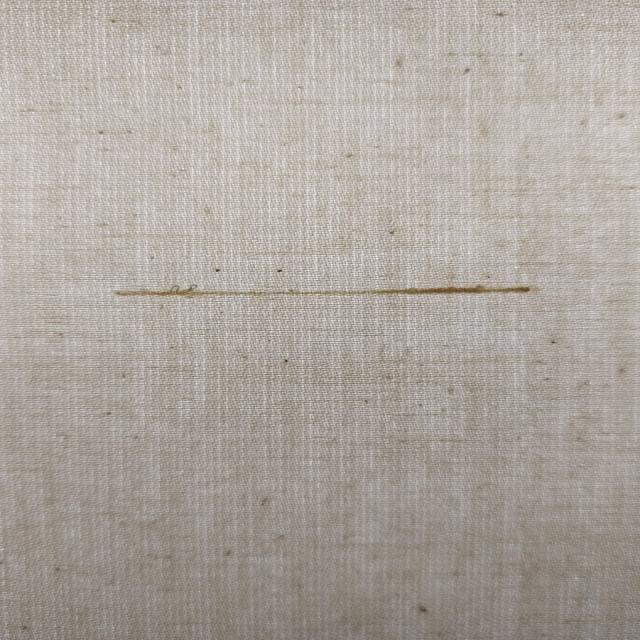Thread_other: (56, 252, 611, 316)
